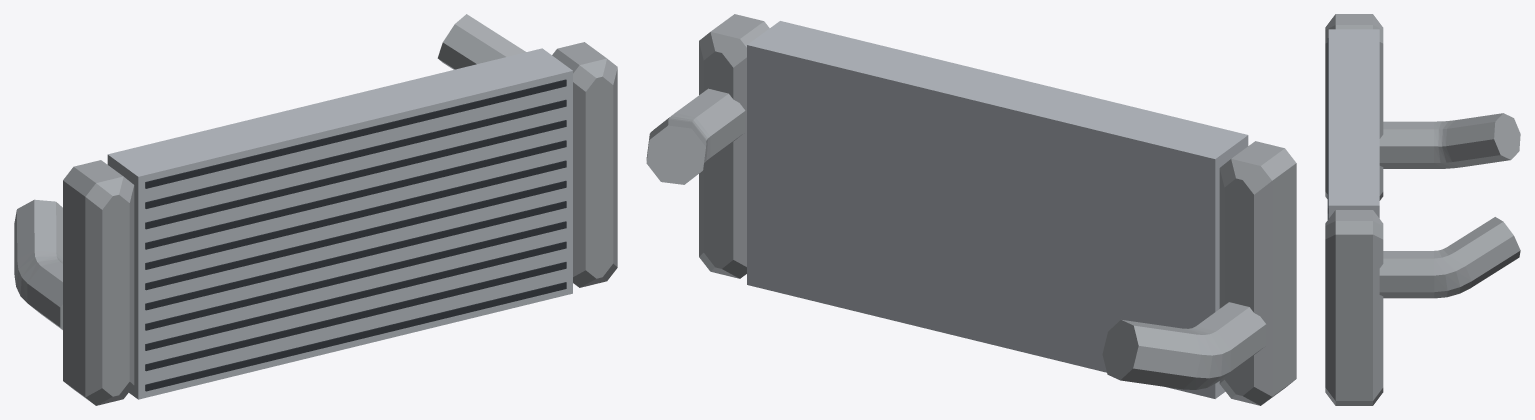
Rendered from ridgeback_4x4.glb.
3 views of the same model, side by side, from view 1: azimuth 30°, elevation 25°; view 2: azimuth 150°, elevation 25°; view 3: azimuth 270°, elevation 25° (orthographic). The views are drawn at different scales.
Parts seen in each view (by area): view 1: model; view 2: model; view 3: model.
Boxes of the visible parts, left/top/right/bottom form: model: left=14, top=14, right=617, bottom=405; model: left=646, top=14, right=1296, bottom=405; model: left=1325, top=14, right=1520, bottom=405.
Size of the model in its own units: 0.6 by 0.24 by 0.2296.
Materials: 2 (1 with a texture image).
